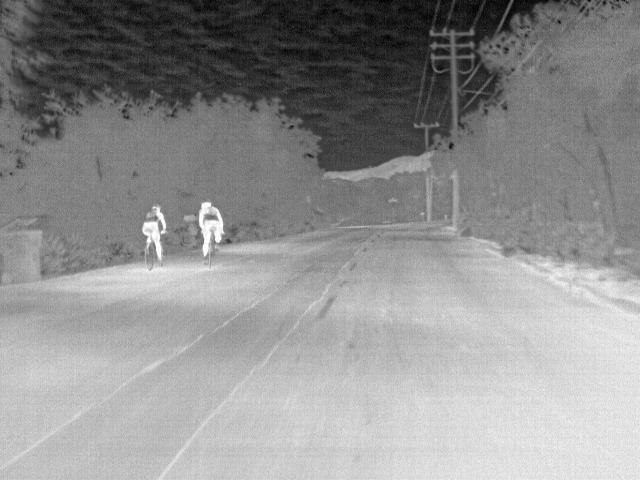person: (199, 197, 227, 259), (143, 200, 170, 260)
